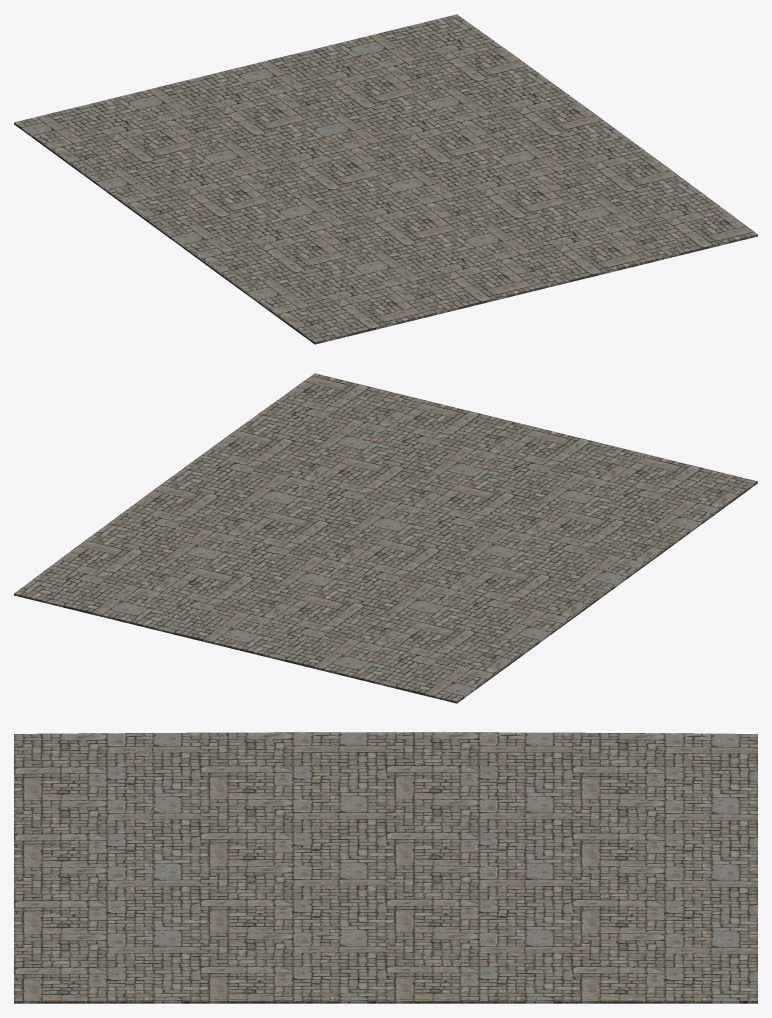
File: colonial-civic-square.glb
The picture shows the model from 3 angles, top to bottom: view 1: azimuth 30°, elevation 25°; view 2: azimuth 150°, elevation 25°; view 3: azimuth 270°, elevation 25°; orthographic projection. The views are drawn at different scales.
Parts seen in each view (by area): view 1: colonial-civic-square.glb; view 2: colonial-civic-square.glb; view 3: colonial-civic-square.glb.
Boxes of the visible parts, x1=… form: colonial-civic-square.glb: x1=14, y1=14, x2=757, y2=344; colonial-civic-square.glb: x1=14, y1=373, x2=757, y2=703; colonial-civic-square.glb: x1=14, y1=732, x2=757, y2=1003.
Bounding box in the file's own units: 17 × 0.1261 × 20.
Materials: 1 (1 with a texture image).
